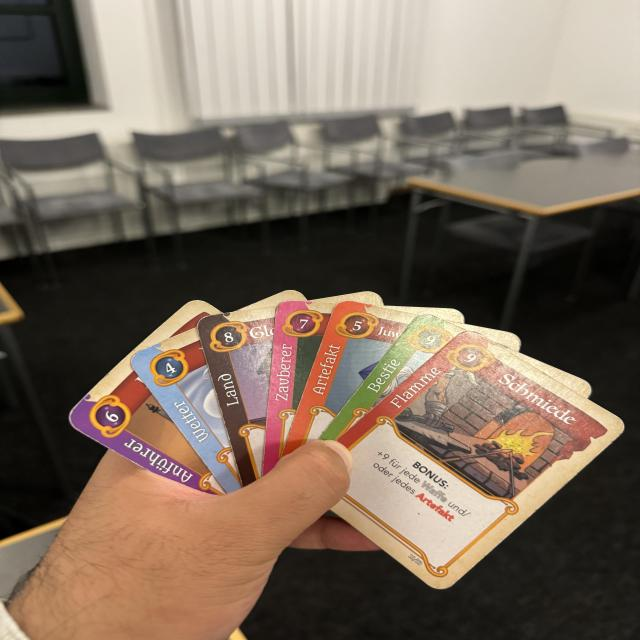Air Elemental: (129, 327, 248, 492)
Clock Tower: (199, 307, 278, 488)
Forge: (333, 328, 631, 596)
Gem Of Order: (281, 300, 416, 460), (261, 300, 336, 478)
Queen: (62, 356, 227, 497)
Unicorn: (317, 313, 467, 440)
